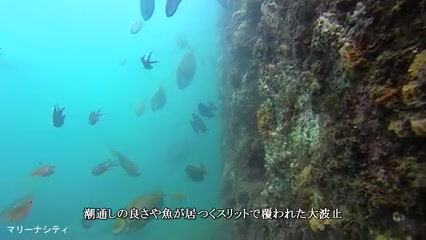smallfish: (101, 140, 141, 178)
